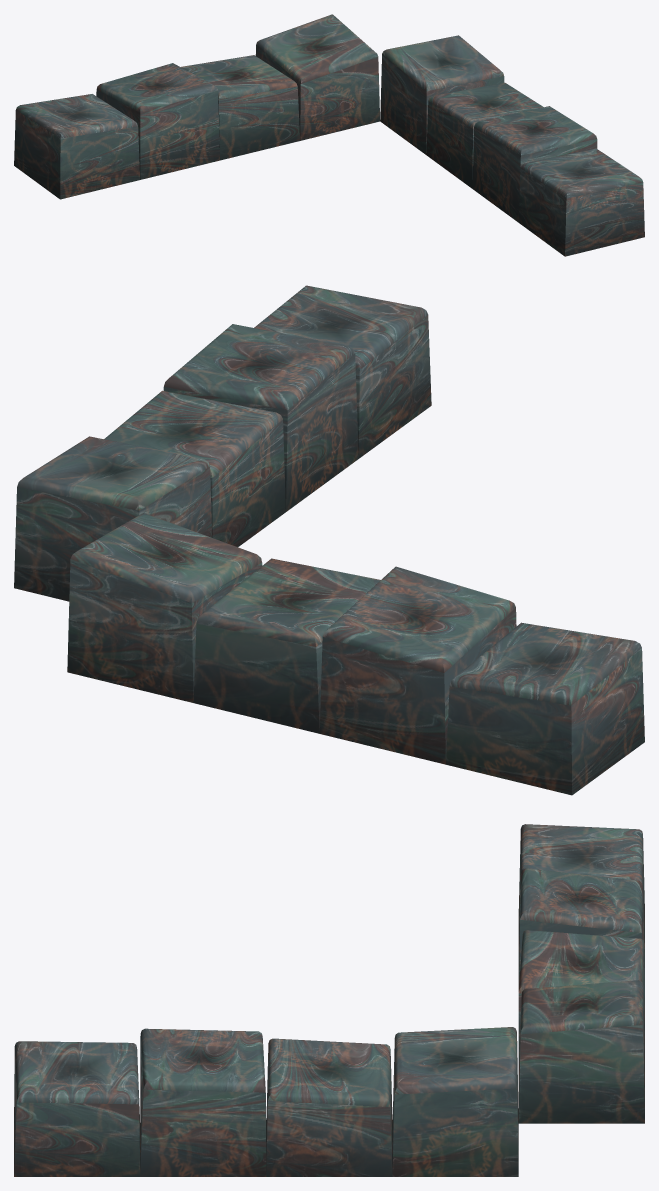
The model's file is CornerBlocks.dae.
The picture shows the model from 3 angles, top to bottom: view 1: azimuth 30°, elevation 25°; view 2: azimuth 150°, elevation 25°; view 3: azimuth 270°, elevation 25°; orthographic projection. The views are drawn at different scales.
Parts seen in each view (by area): view 1: CornerBlocks; view 2: CornerBlocks; view 3: CornerBlocks.
Part boxes in pixels (<box>): CornerBlocks: <box>14,14,644,256</box>; CornerBlocks: <box>14,285,644,795</box>; CornerBlocks: <box>14,824,644,1176</box>.
Size of what is drawn, in the model's own units: 500 by 91.33 by 500.
